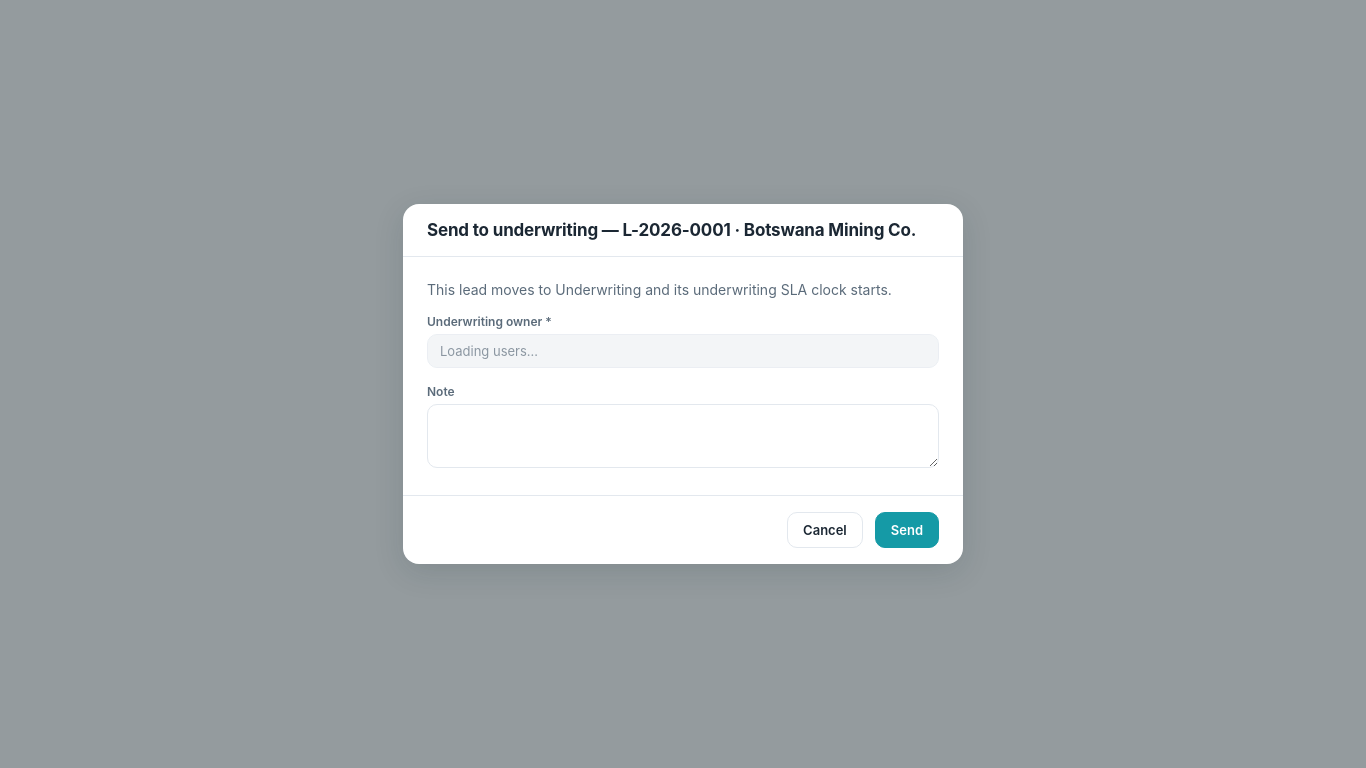
Test: SendToUnderwritingDialog › click_WhenConfirmedWithoutOwner_ShouldShowInlineErrorAndNotConfirm
The image size is (1366, 768).
Step 1. Click the button with test id "dialog-primary-button" → (907, 530), box [875,512,939,548]
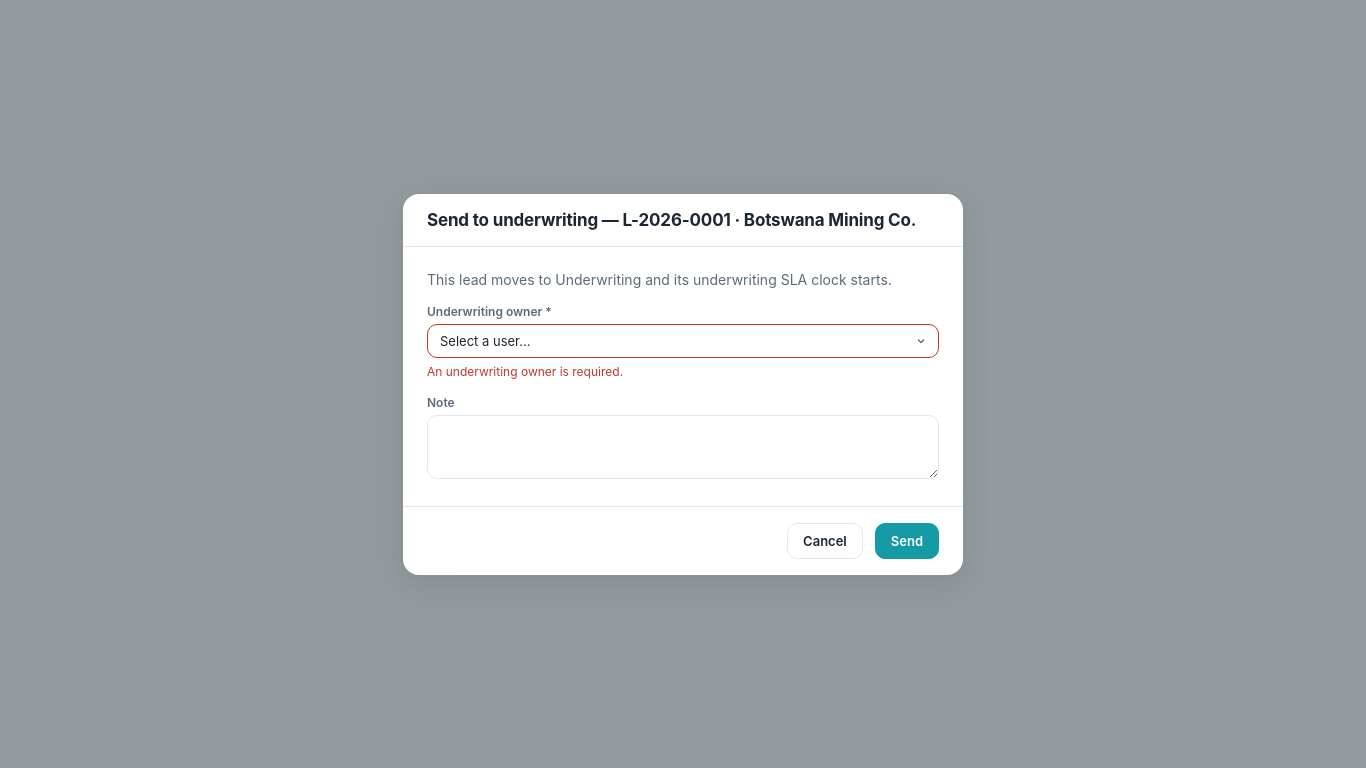
Check: the message with test id "field-error" reads "An underwriting owner is required.", box [427,364,623,378]
